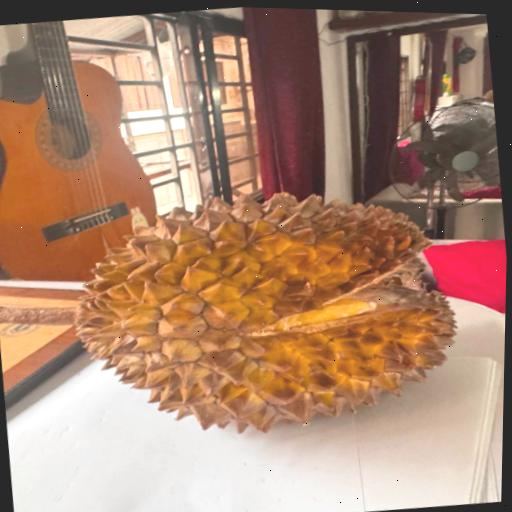rot: (15, 161, 476, 470)
